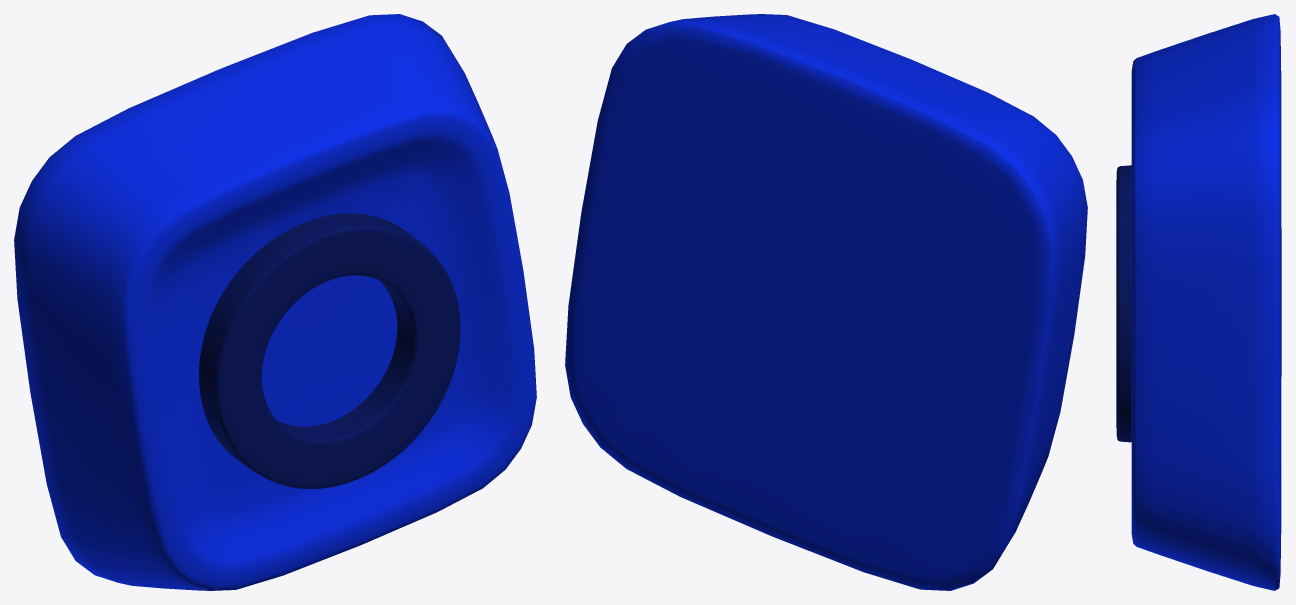
3 views of the same model, side by side, from view 1: azimuth 30°, elevation 25°; view 2: azimuth 150°, elevation 25°; view 3: azimuth 270°, elevation 25° (orthographic). The views are drawn at different scales.
Parts seen in each view (by area): view 1: O tile; view 2: O tile; view 3: O tile.
Boxes of the visible parts, x1,y1,x2,y2 form: O tile: (14,14,536,590); O tile: (565,14,1087,590); O tile: (1116,14,1281,590).
Bounding box in the file's own units: 1.95 × 1.95 × 0.5849.
